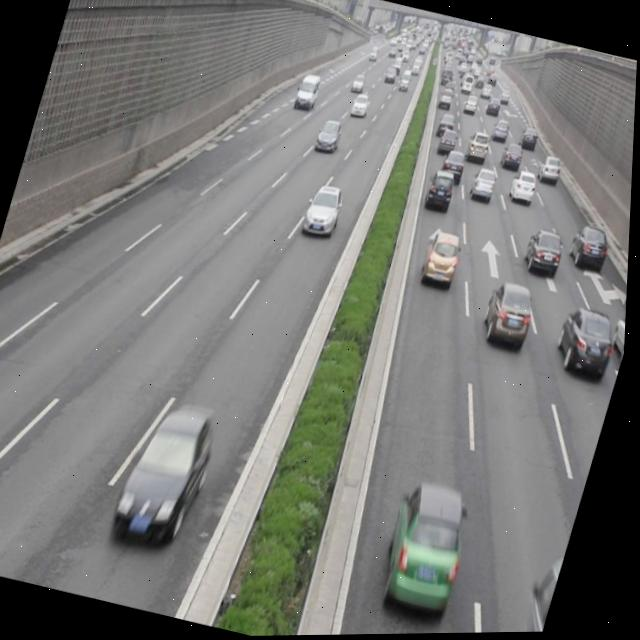car: (112, 394, 227, 547), (376, 477, 482, 620), (478, 277, 541, 356), (552, 308, 620, 379), (300, 181, 347, 241), (420, 227, 466, 286), (565, 223, 614, 274), (522, 226, 567, 276), (423, 170, 457, 213), (466, 167, 499, 209), (438, 148, 470, 189), (505, 171, 538, 210), (313, 117, 345, 155), (608, 304, 629, 361), (535, 153, 563, 185), (499, 142, 525, 172), (437, 128, 460, 159), (469, 132, 491, 162)
truck: (510, 556, 567, 634)
